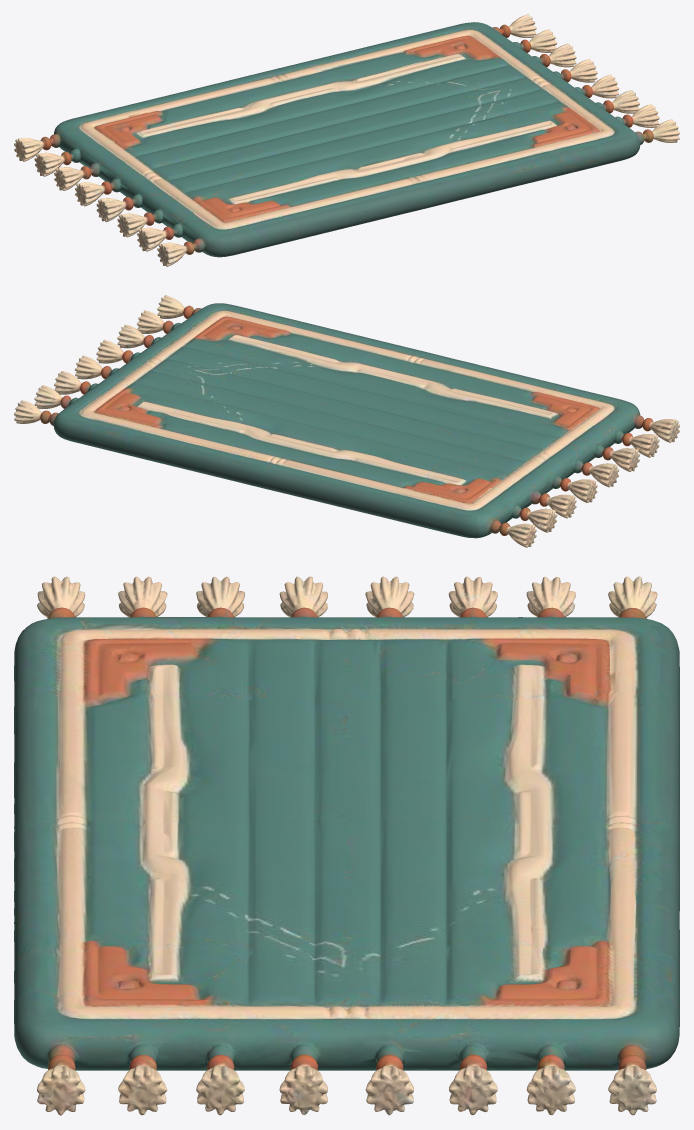
File: prayer-rug-variant-09-teal-terracotta-corners.glb
3 renders of one model, top to bottom at view 1: azimuth 30°, elevation 25°; view 2: azimuth 150°, elevation 25°; view 3: azimuth 270°, elevation 25°, orthographic. The views are drawn at different scales.
Parts seen in each view (by area): view 1: mesh_node; view 2: mesh_node; view 3: mesh_node.
Boxes of the visible parts, left/top/right/bottom form: mesh_node: left=14, top=14, right=679, bottom=266; mesh_node: left=14, top=295, right=679, bottom=547; mesh_node: left=14, top=576, right=679, bottom=1115.
Bounding box in the file's own units: 1.89 × 0.0872 × 1.07.
Materials: 1 (1 with a texture image).
